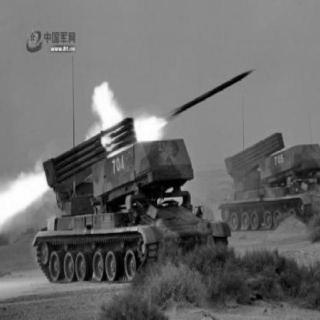Fire: (129, 104, 170, 142)
